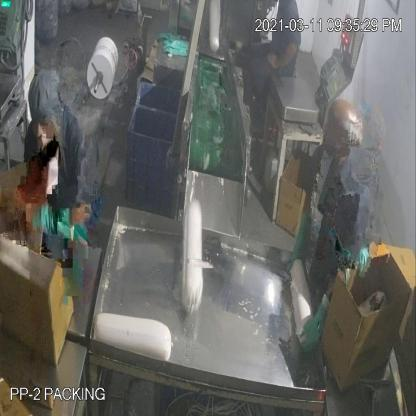no_glove: (265, 42, 298, 75)
